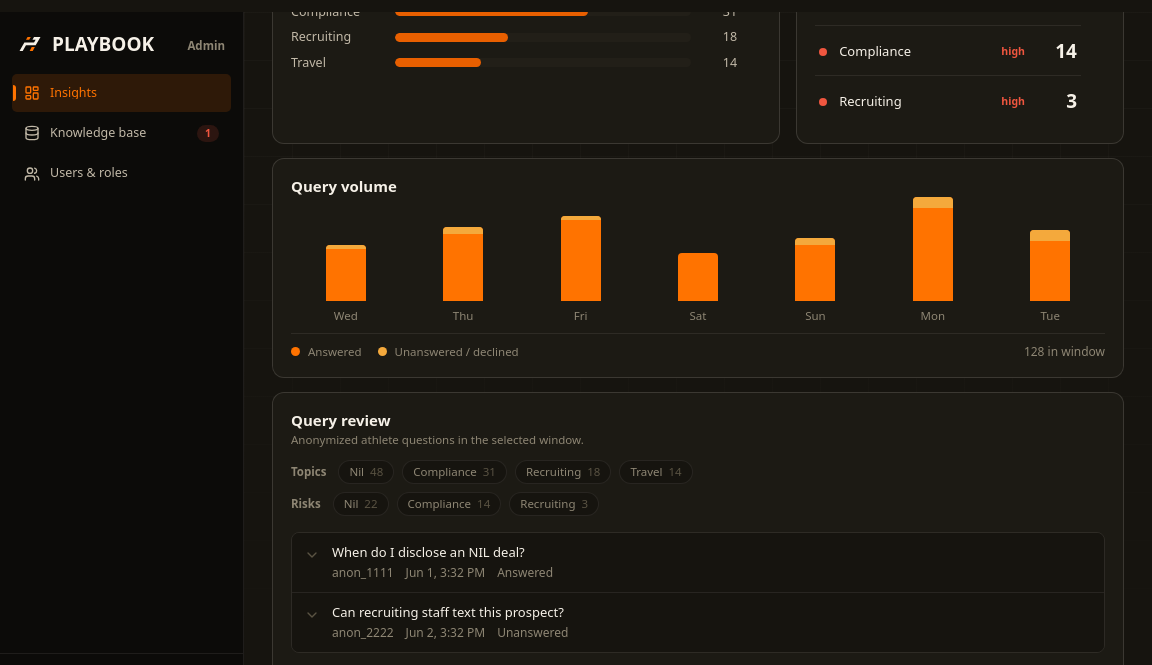
Test: AdminShell › renders anonymized query review rows and expandable details
The width and height of the screenshot is (1152, 665).
(page scrolled)
Expected: the text "When do I disclose an NIL deal?" is shown, [332,543,525,561]
Expected: the text "Can recruiting staff text this prospect?" is shown, [332,603,564,621]
Click the button with aria-label "Open query details for When do I disclose an NIL deal" at (428, 552), box [292,533,1104,592]
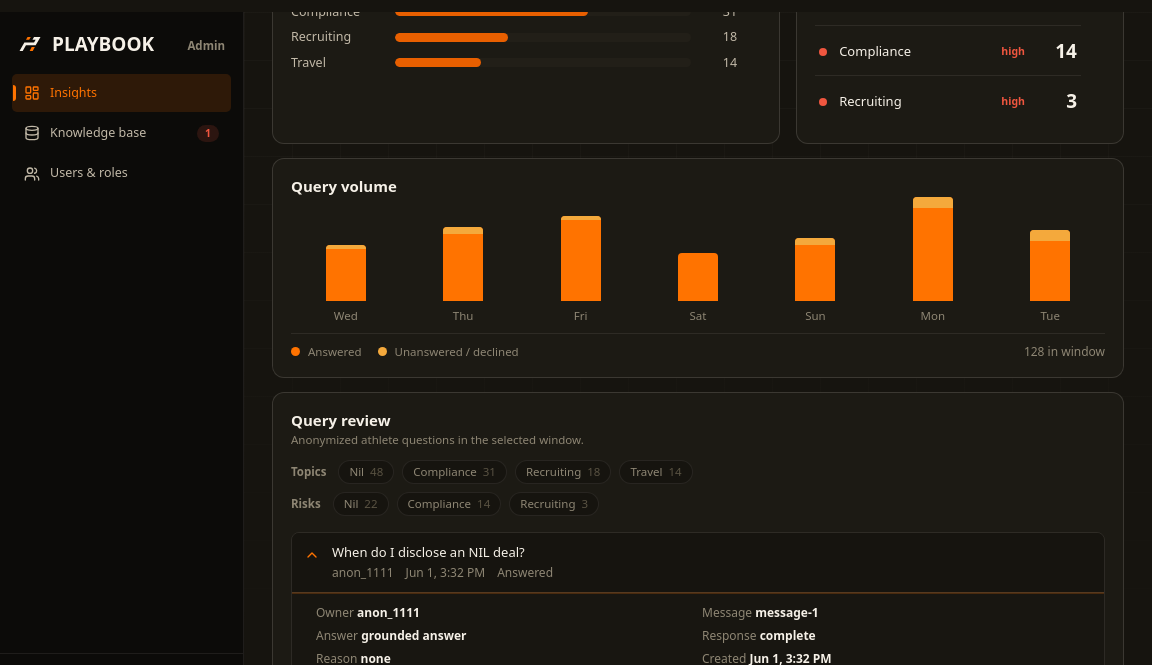
Expected: the element labelled "Message message-1" is shown, [702,604,819,621]
Expected: the element labelled "Answer grounded answer" is shown, [316,627,466,644]
Expected: the element labelled "Response complete" is shown, [702,627,816,644]
